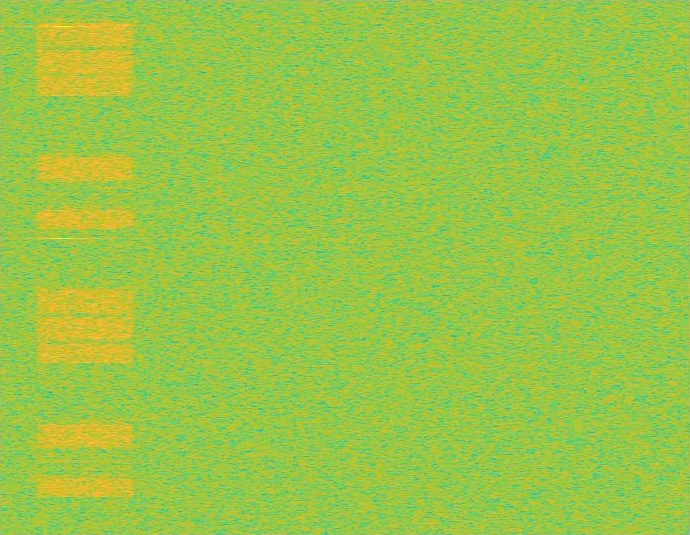LTE: (33, 0, 137, 534)
Radar: (56, 0, 70, 534)
